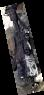gun: (0, 1, 44, 95)
